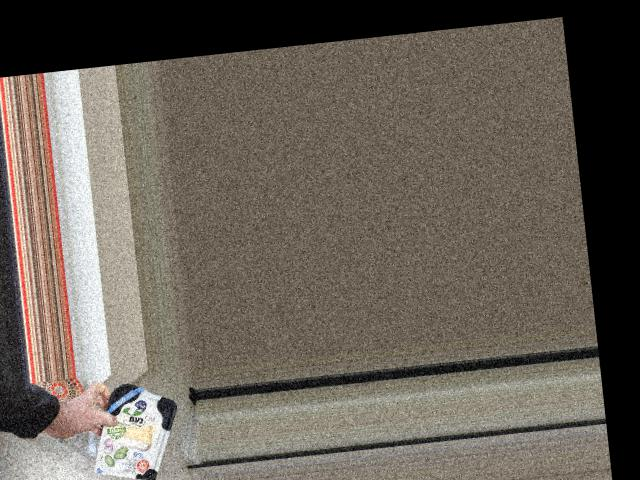cheese: (100, 376, 177, 480)
